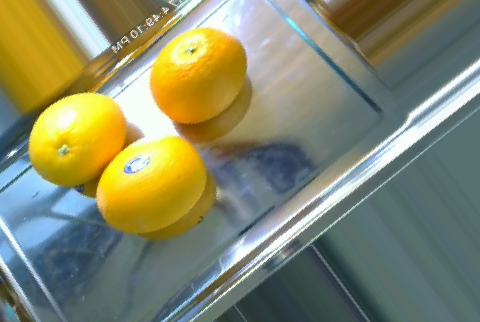Orange: (94, 134, 206, 233), (148, 27, 247, 124), (27, 92, 126, 185)
